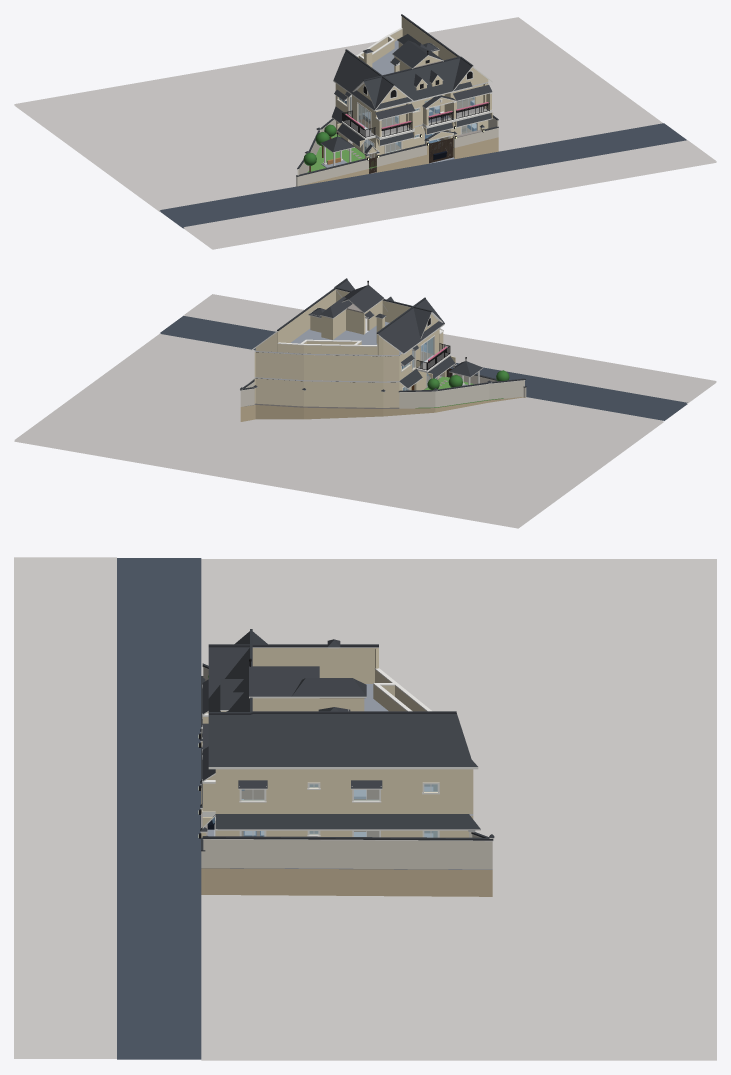
3 views of the same model, one above another, from view 1: azimuth 30°, elevation 25°; view 2: azimuth 150°, elevation 25°; view 3: azimuth 270°, elevation 25° (orthographic). The views are drawn at different scales.
Parts seen in each view (by area): view 1: ground_ground, road_road, RF_m_rooftile, RF_m_wall, m_boundary, m_rooftile, SF_m_wall, m_stone, SF_m_iron, SF_m_trim, m_wall, RF_m_trim (+7 smaller); view 2: ground_ground, road_road, RF_m_wall, SF_m_wall, m_wall, RF_m_rooftile, m_boundary, m_stone, m_rooftile, RF_m_trim, RF_m_paver, m_trim; view 3: ground_ground, road_road, RF_m_rooftile, SF_m_wall, m_boundary, m_stone, m_rooftile, RF_m_wall, RF_m_trim, m_wall, SF_m_rooftile, m_trim (+1 smaller).
Part boxes in pixels (box(x1,y1,x2,y2)): ground_ground: box(14, 17, 716, 249); road_road: box(160, 123, 686, 228); RF_m_rooftile: box(333, 14, 473, 109); RF_m_wall: box(345, 16, 488, 103); m_boundary: box(296, 117, 498, 186); m_rooftile: box(296, 106, 498, 176); SF_m_wall: box(335, 83, 491, 136); m_stone: box(296, 137, 498, 186); SF_m_iron: box(342, 103, 489, 137); SF_m_trim: box(334, 92, 492, 139); m_wall: box(336, 112, 492, 171); RF_m_trim: box(333, 17, 492, 111); ground_ground: box(14, 294, 716, 528); road_road: box(160, 315, 687, 420); RF_m_wall: box(255, 289, 438, 355); SF_m_wall: box(254, 329, 443, 381); m_wall: box(254, 356, 455, 407); RF_m_rooftile: box(277, 278, 444, 353); m_boundary: box(240, 373, 526, 408); m_stone: box(240, 397, 525, 421); m_rooftile: box(240, 356, 526, 392); RF_m_trim: box(250, 289, 444, 354); RF_m_paver: box(255, 321, 400, 355); m_trim: box(240, 363, 525, 392); ground_ground: box(14, 557, 716, 1060); road_road: box(117, 558, 201, 1059); RF_m_rooftile: box(208, 629, 477, 766); SF_m_wall: box(202, 712, 473, 813); m_boundary: box(201, 667, 492, 869); m_stone: box(201, 788, 492, 896); m_rooftile: box(200, 663, 494, 851); RF_m_wall: box(221, 648, 426, 711); RF_m_trim: box(208, 647, 478, 769); m_wall: box(201, 733, 473, 837); SF_m_rooftile: box(202, 679, 382, 788); m_trim: box(200, 666, 494, 841).
Bounding box in the file's own units: 67.06 × 15.02 × 45.72.
